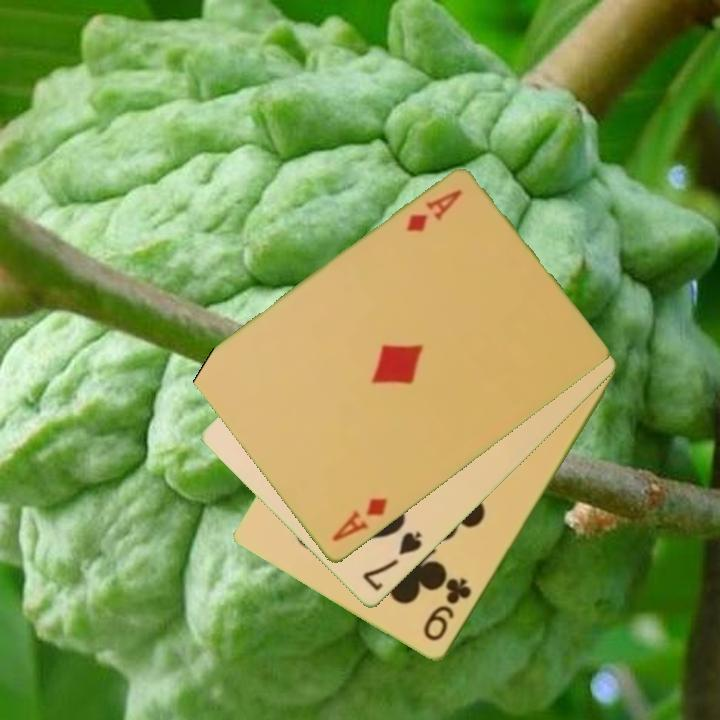7s: (359, 528, 425, 595)
9c: (420, 575, 475, 645)
Ad: (328, 494, 391, 546), (402, 186, 465, 236)
